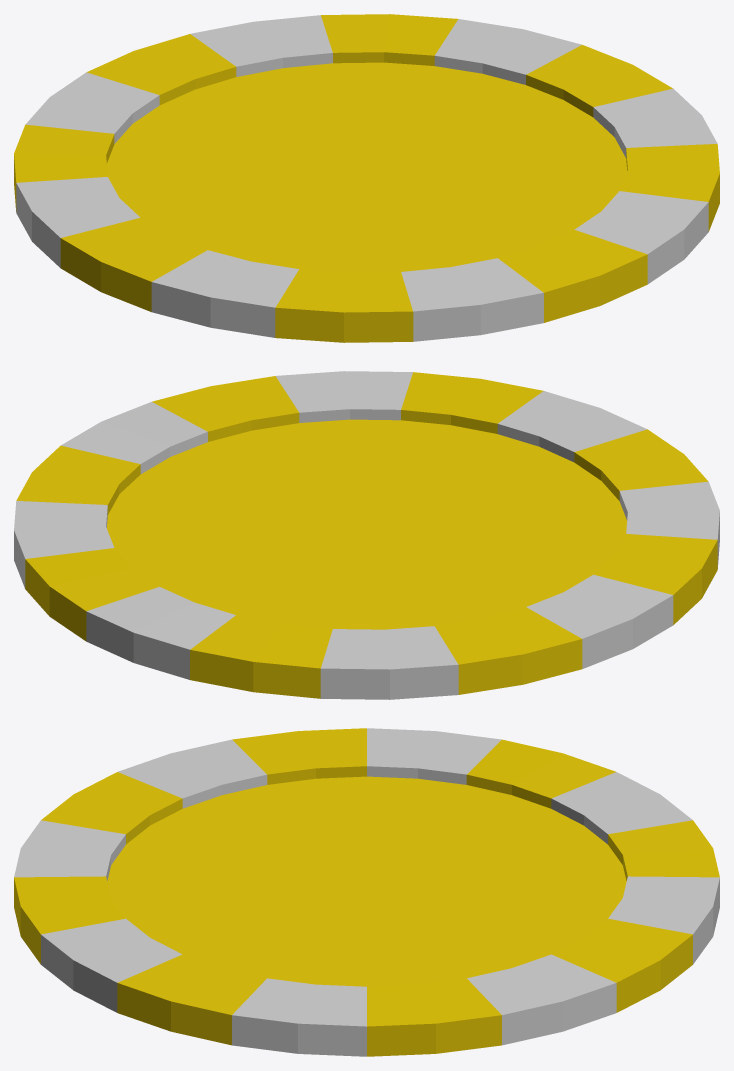
The model's file is PokerChipYellow2.fbx.
3 renders of one model, top to bottom at view 1: azimuth 30°, elevation 25°; view 2: azimuth 150°, elevation 25°; view 3: azimuth 270°, elevation 25°, orthographic.
Visible parts, largest first — view 1: Cylinder; view 2: Cylinder; view 3: Cylinder.
Part boxes in pixels (x1,y1,x2,y2): Cylinder: (14, 14, 719, 342); Cylinder: (14, 371, 719, 699); Cylinder: (14, 728, 719, 1056).
Bounding box in the file's own units: 2 × 0.0974 × 2.
